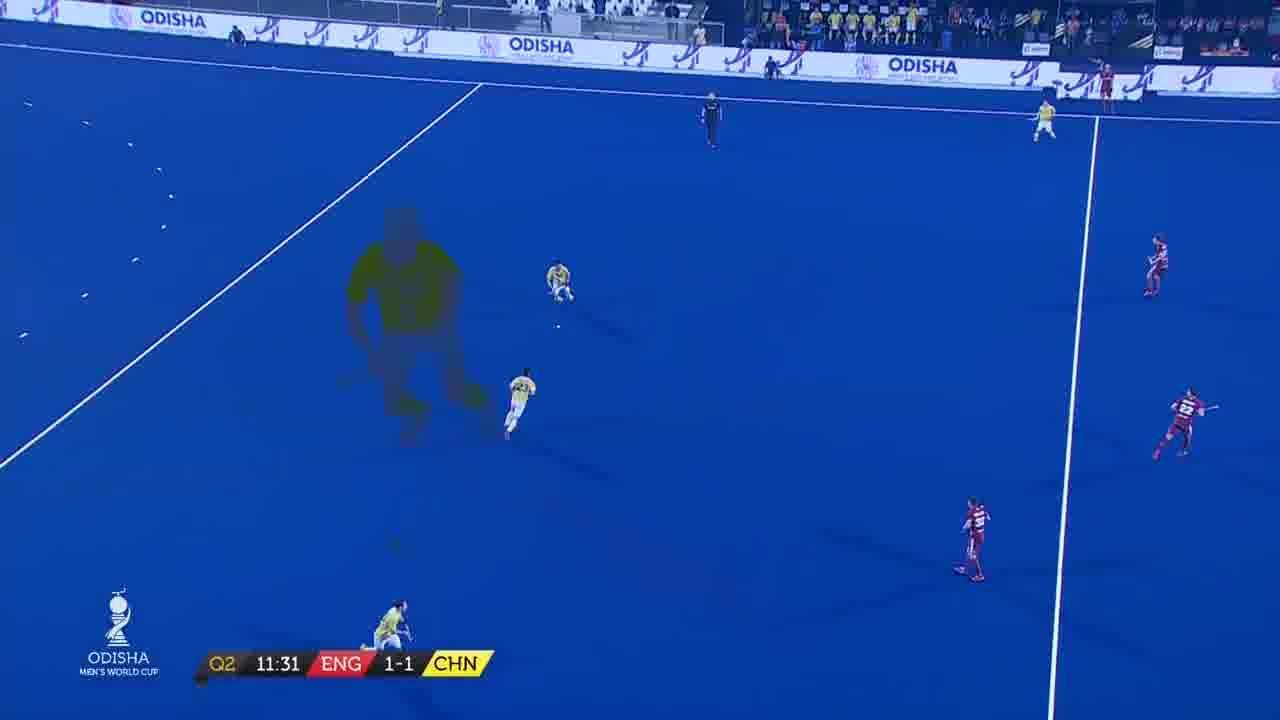ball: (554, 324, 562, 332)
